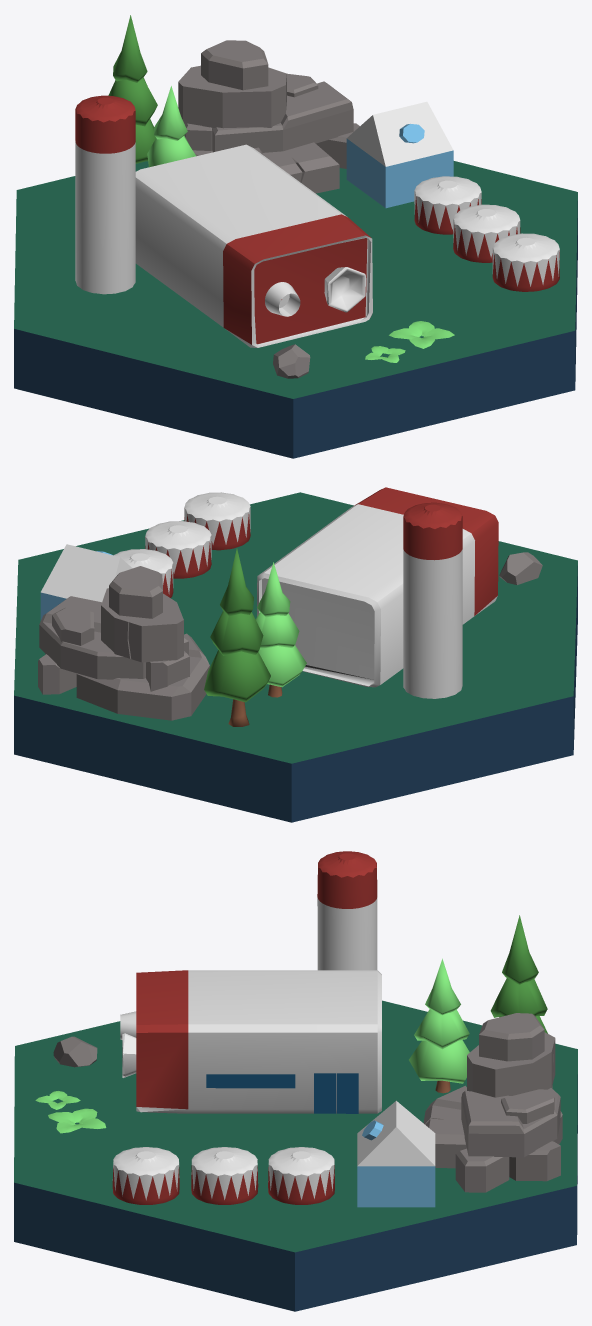
Rendered from Macro - Electric lvl 1 WM3.fbx.
The picture shows the model from 3 angles, top to bottom: view 1: azimuth 30°, elevation 25°; view 2: azimuth 150°, elevation 25°; view 3: azimuth 270°, elevation 25°; orthographic projection.
Visible parts, largest first — view 1: Cylinder.154, Cube battery.011, Rock Type1 02 mesh.013, Cylinder battery.005, milkbox1.011, Cylinder battery.003, Tree_Spruce_tiny_01.002, Cylinder battery.002, Cylinder battery.001, Tree_Spruce_tiny_01.001, Rock Type2 04 mesh.005, Plane.011; view 2: Cylinder.154, Cube battery.011, Rock Type1 02 mesh.013, Cylinder battery.005, Tree_Spruce_tiny_01.002, Tree_Spruce_tiny_01.001, milkbox1.011, Cylinder battery.003, Cylinder battery.002, Cylinder battery.001, Rock Type2 04 mesh.005; view 3: Cylinder.154, Cube battery.011, Rock Type1 02 mesh.013, milkbox1.011, Cylinder battery.005, Tree_Spruce_tiny_01.001, Cylinder battery.003, Cylinder battery.002, Cylinder battery.001, Tree_Spruce_tiny_01.002, Plane.002, Rock Type2 04 mesh.005 (+3 smaller).
Part boxes in pixels (box(x1,y1,x2,y2)): Cylinder.154: box(14, 161, 577, 458); Cube battery.011: box(135, 144, 372, 347); Rock Type1 02 mesh.013: box(178, 40, 359, 193); Cylinder battery.005: box(75, 95, 135, 294); milkbox1.011: box(346, 101, 453, 208); Cylinder battery.003: box(492, 233, 559, 291); Tree_Spruce_tiny_01.002: box(108, 15, 157, 163); Cylinder battery.002: box(453, 204, 520, 262); Cylinder battery.001: box(414, 176, 481, 234); Tree_Spruce_tiny_01.001: box(147, 86, 196, 167); Rock Type2 04 mesh.005: box(273, 344, 310, 378); Plane.011: box(389, 321, 454, 348); Cylinder.154: box(14, 492, 577, 822); Cube battery.011: box(257, 487, 498, 687); Rock Type1 02 mesh.013: box(38, 566, 209, 720); Cylinder battery.005: box(403, 502, 462, 698); Tree_Spruce_tiny_01.002: box(204, 548, 270, 726); Tree_Spruce_tiny_01.001: box(255, 562, 306, 697); milkbox1.011: box(40, 544, 132, 620); Cylinder battery.003: box(184, 492, 250, 550); Cylinder battery.002: box(145, 521, 211, 578); Cylinder battery.001: box(113, 549, 173, 597); Rock Type2 04 mesh.005: box(499, 552, 542, 584); Cylinder.154: box(14, 1000, 577, 1311); Cube battery.011: box(120, 970, 381, 1113); Rock Type1 02 mesh.013: box(423, 1013, 562, 1192); milkbox1.011: box(357, 1100, 435, 1207); Cylinder battery.005: box(317, 851, 377, 970); Tree_Spruce_tiny_01.001: box(409, 958, 469, 1093); Cylinder battery.003: box(112, 1147, 179, 1204); Cylinder battery.002: box(191, 1147, 258, 1204); Cylinder battery.001: box(268, 1147, 334, 1204); Tree_Spruce_tiny_01.002: box(490, 915, 547, 1033); Plane.002: box(206, 1074, 295, 1088); Rock Type2 04 mesh.005: box(53, 1036, 97, 1067).
Bounding box in the file's own units: 197 × 80.5 × 172.
